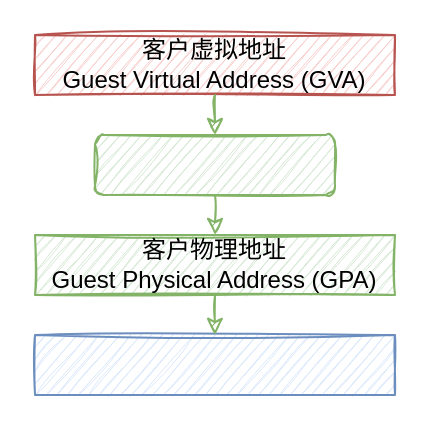
This 430x430 diagram has some shape labels left out. The shapes that lost their labels are listed below. From the top down, each one's centre as x and y in pixels, then its label:
point (214, 164): 客户页表 Guest Page Table
point (214, 364): 宿主虚拟地址 Host Virtual Address (HVA)
